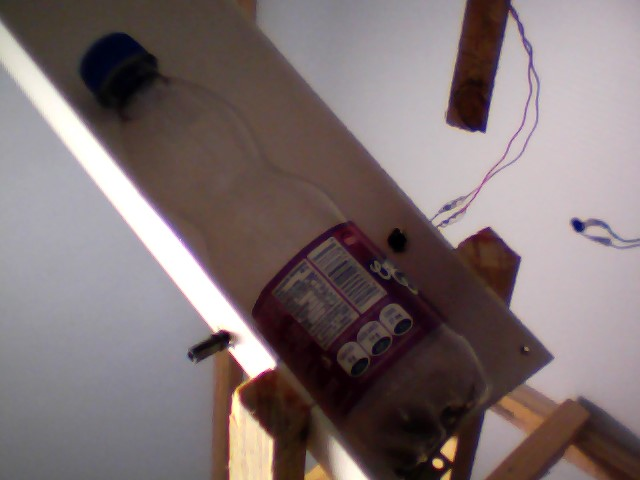plastico: (72, 24, 497, 477)
